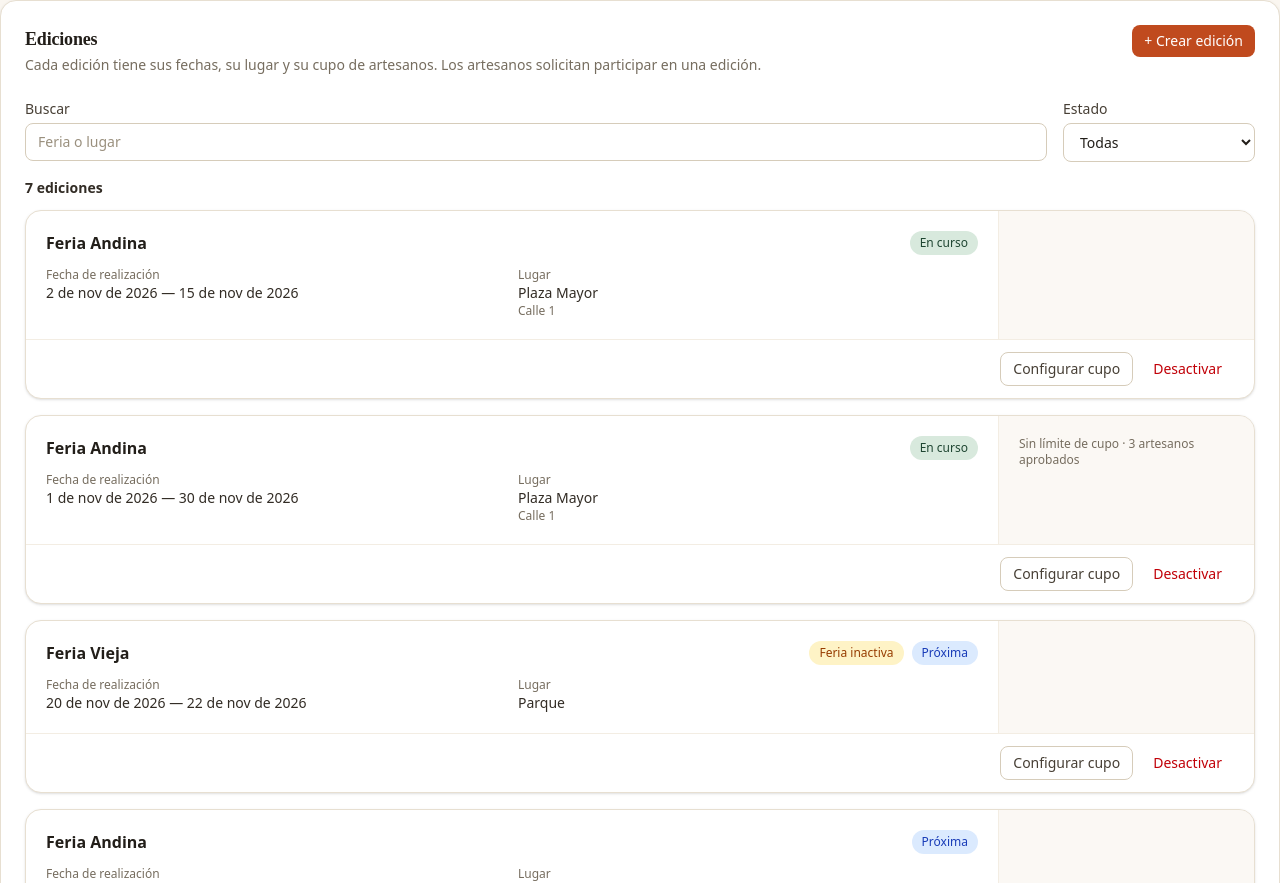
GestionEdiciones: crear › el botón abre y cierra el formulario, que solo ofrece ferias y lugares activos
This screenshot has width=1280, height=883.
Click the button "+ Crear edición".
click(1194, 41)  # box [1132, 25, 1255, 57]
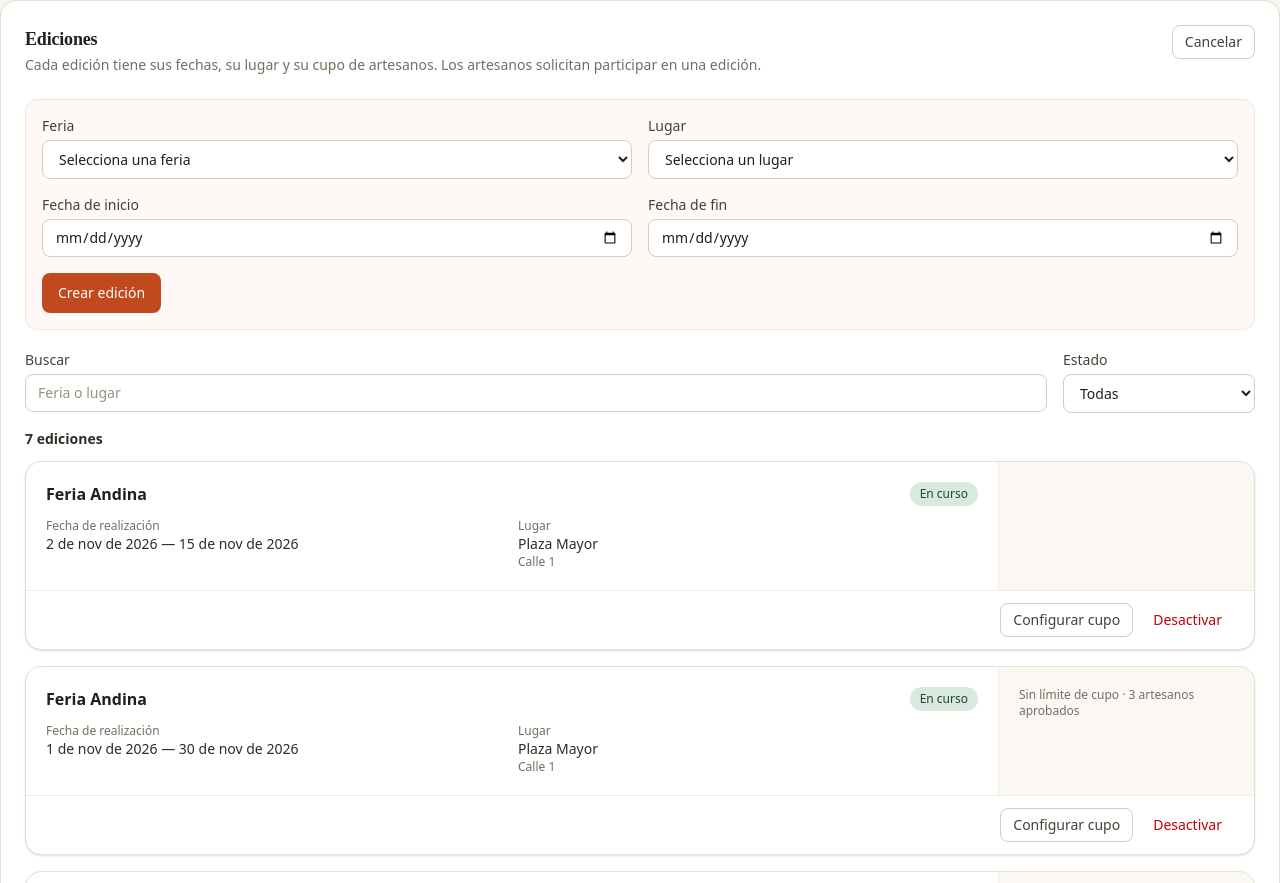
Click the button "Cancelar".
click(1213, 42)  # box [1172, 25, 1255, 59]
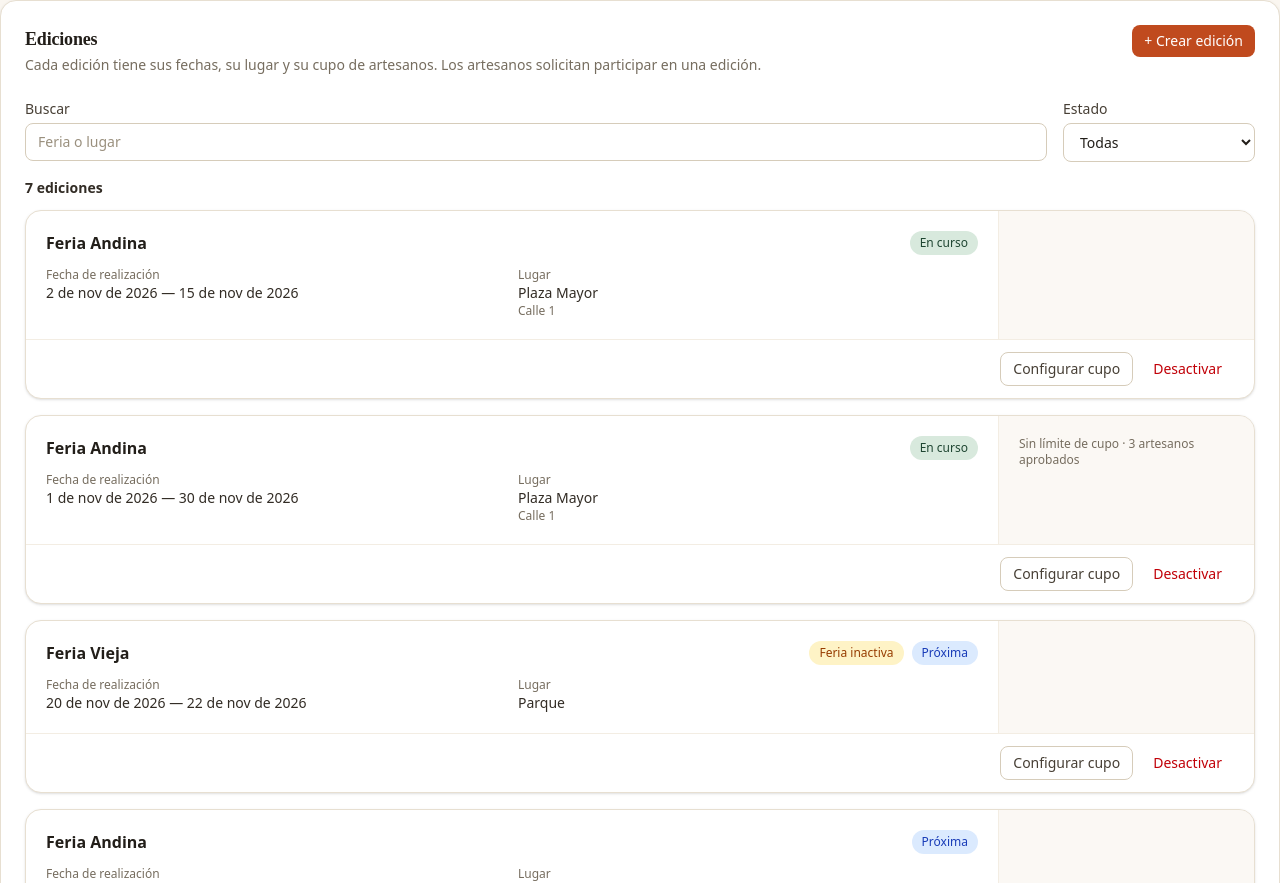
Expected: the label labelled "Fecha de inicio" is gone
